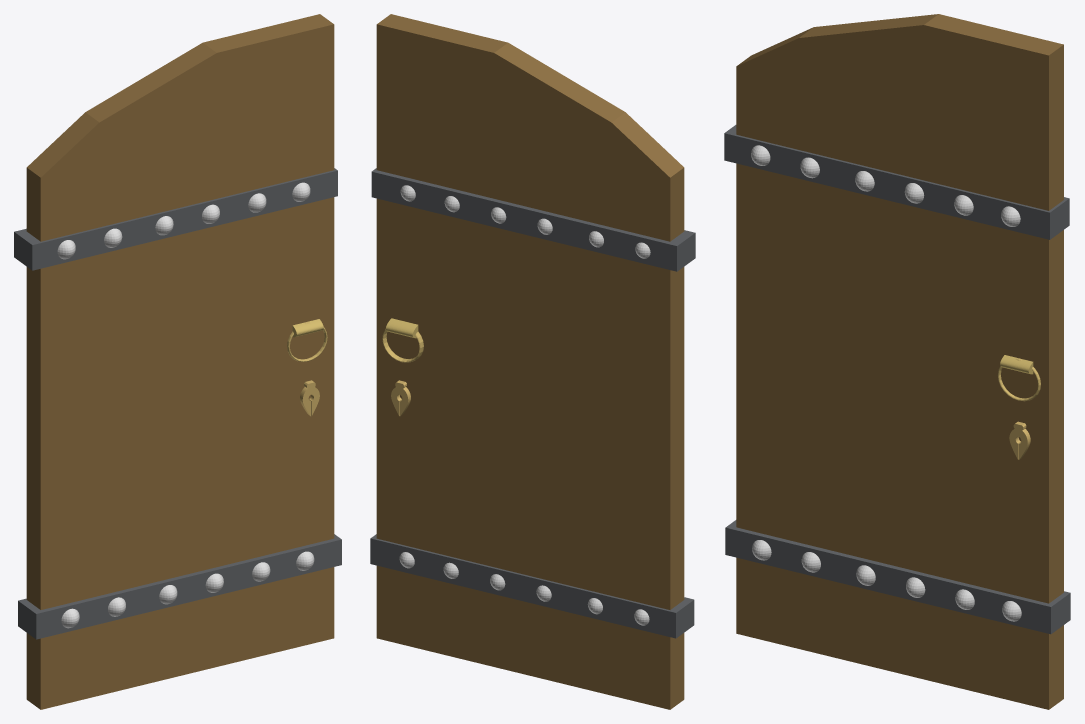
File: doorRight4.glb
3 views of the same model, side by side, from view 1: azimuth 30°, elevation 25°; view 2: azimuth 150°, elevation 25°; view 3: azimuth 330°, elevation 25° (orthographic). The views are drawn at different scales.
Parts seen in each view (by area): view 1: Mesh_Mesh_head_geo.001_lambert2SG.001; view 2: Mesh_Mesh_head_geo.001_lambert2SG.001; view 3: Mesh_Mesh_head_geo.001_lambert2SG.001.
Part boxes in pixels (x1,y1,x2,y2): Mesh_Mesh_head_geo.001_lambert2SG.001: [14, 14, 341, 709]; Mesh_Mesh_head_geo.001_lambert2SG.001: [370, 14, 695, 709]; Mesh_Mesh_head_geo.001_lambert2SG.001: [724, 14, 1070, 709].
Size of the model in its own units: 12.6 by 24 by 1.9.
